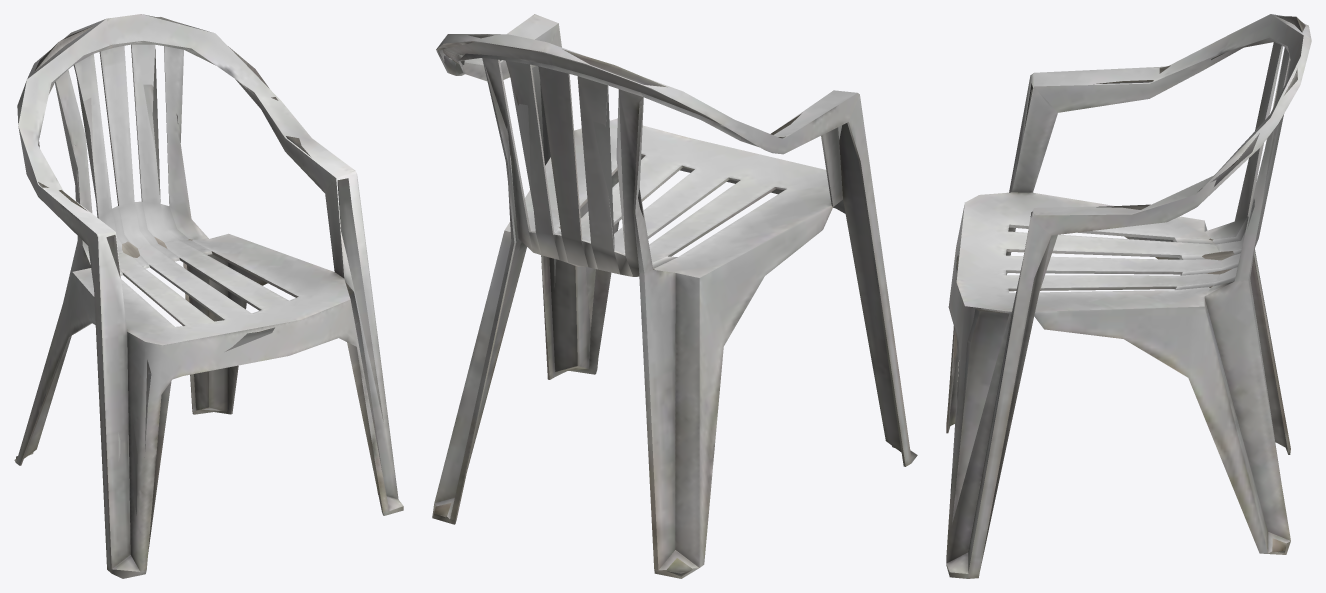
File: plastic_monobloc_chair_01.glb
3 renders of one model, left to right at view 1: azimuth 30°, elevation 25°; view 2: azimuth 150°, elevation 25°; view 3: azimuth 270°, elevation 25°, orthographic. The views are drawn at different scales.
Visible parts, largest first — view 1: plastic_monobloc_chair_01; view 2: plastic_monobloc_chair_01; view 3: plastic_monobloc_chair_01.
Part boxes in pixels (x1,y1,x2,y2): plastic_monobloc_chair_01: (14, 14, 403, 578); plastic_monobloc_chair_01: (432, 14, 917, 578); plastic_monobloc_chair_01: (946, 14, 1311, 578).
Size of the model in its own units: 0.6419 by 0.8798 by 0.6276.
Materials: 1 (1 with a texture image).
